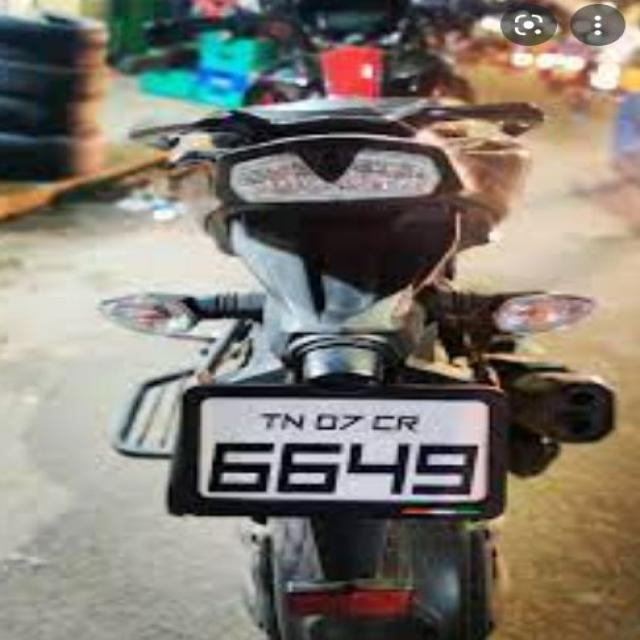number plate: (179, 384, 501, 512)
